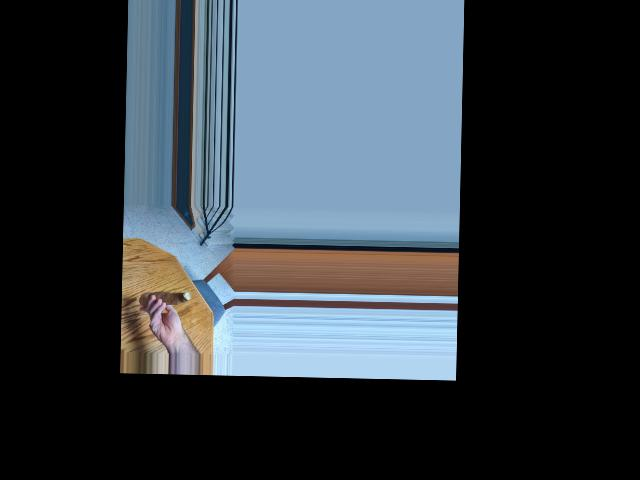sweet_potato: (147, 292, 192, 304)
